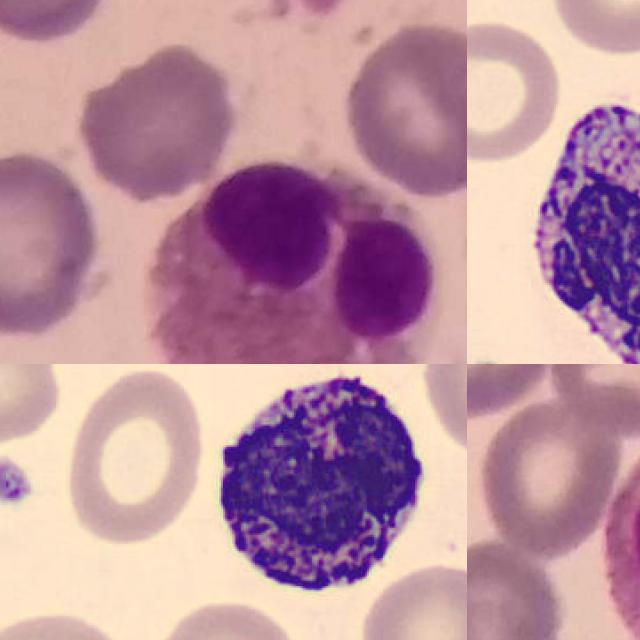Basophil: (198, 364, 436, 607), (510, 82, 640, 364)
Eosinophil: (145, 161, 432, 364)
Platelets: (0, 452, 38, 512)
RBC: (59, 364, 210, 550), (467, 13, 565, 166), (354, 558, 467, 640), (145, 593, 303, 640), (0, 364, 66, 452), (543, 0, 640, 57)
